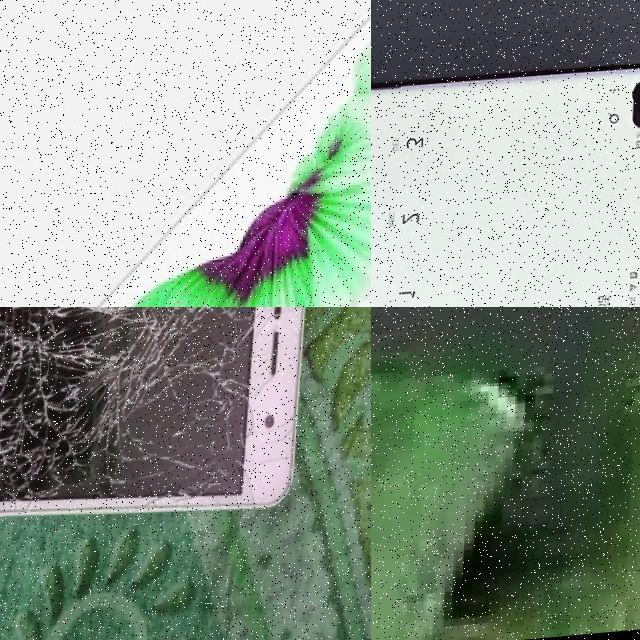dead pixel: (623, 83, 640, 115)
screen crack: (0, 307, 305, 543)
